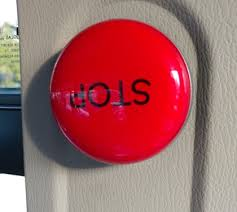bell: (45, 17, 195, 166)
